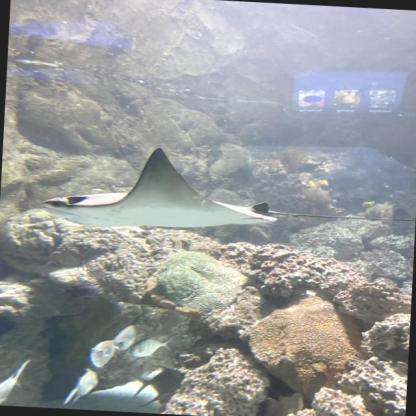fish: (0, 357, 31, 407), (66, 368, 98, 404), (127, 335, 170, 359), (91, 339, 114, 367), (114, 322, 136, 350)
stingray: (38, 140, 282, 236)
